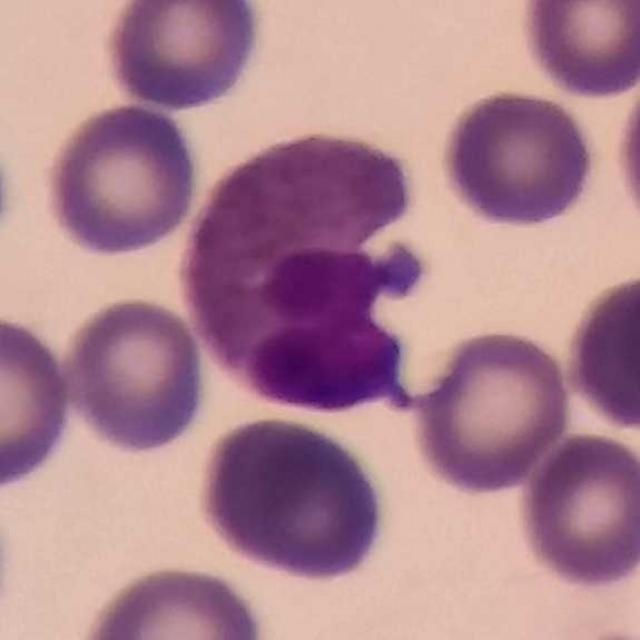Eosinophil: (176, 129, 432, 421)
Platelets: (362, 239, 434, 305)
RBC: (192, 411, 393, 584), (408, 324, 576, 497), (40, 100, 203, 260), (56, 293, 212, 457), (437, 85, 600, 232), (514, 429, 640, 592), (99, 0, 269, 115), (73, 558, 270, 640), (0, 308, 77, 496), (561, 268, 640, 436), (516, 0, 639, 101), (611, 58, 640, 247)
